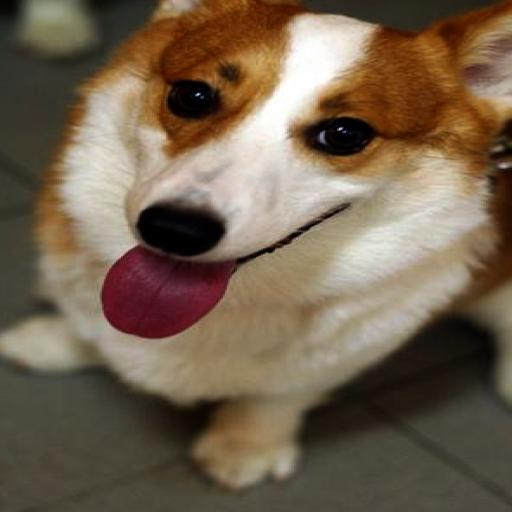dog_face: (83, 0, 512, 269)
